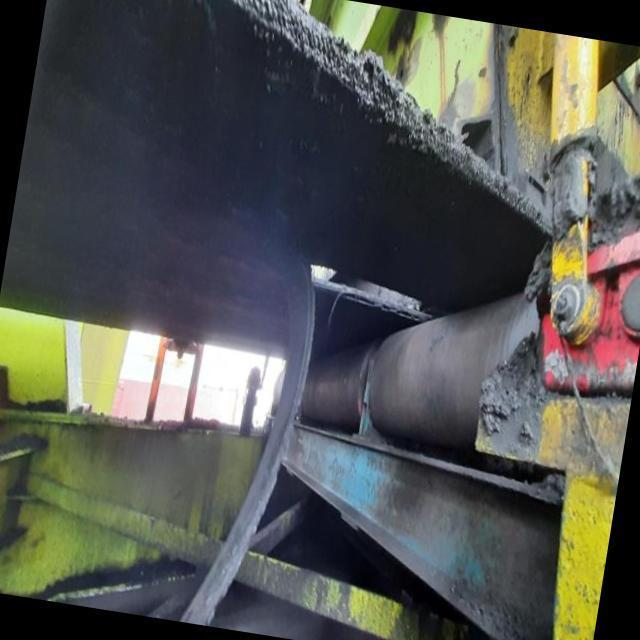Tear: (300, 253, 431, 326)
